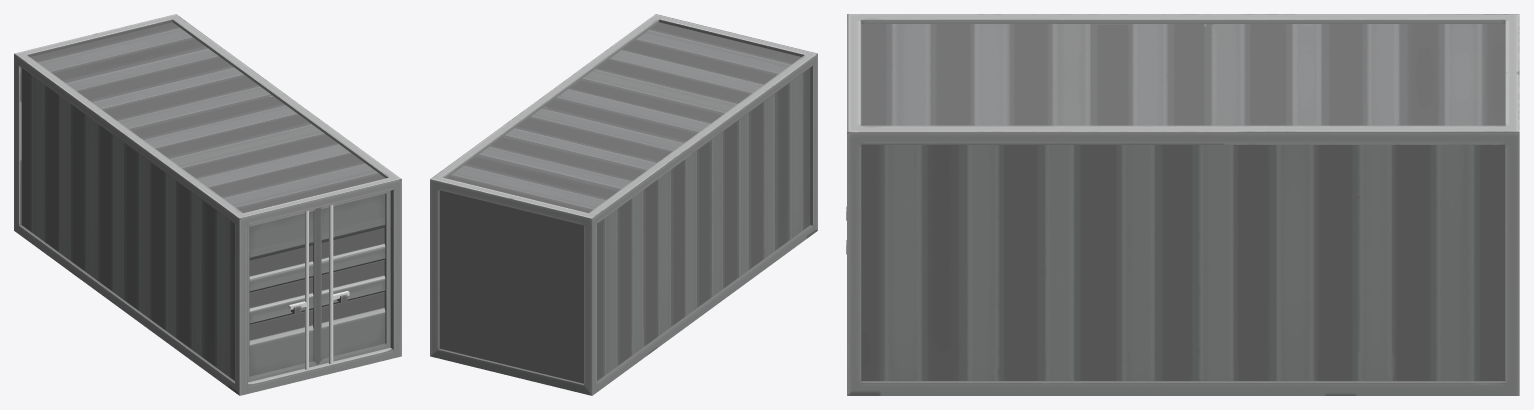
The model's file is konteiner.fbx.
3 views of the same model, side by side, from view 1: azimuth 30°, elevation 25°; view 2: azimuth 150°, elevation 25°; view 3: azimuth 270°, elevation 25° (orthographic). The views are drawn at different scales.
Visible parts, largest first — view 1: Box084, Object071; view 2: Box084; view 3: Box084.
Boxes of the visible parts, x1,y1,x2,y2 form: Box084: (14, 14, 401, 395); Object071: (288, 205, 349, 369); Box084: (430, 14, 817, 395); Box084: (846, 14, 1519, 395).
Size of the model in its own units: 97.91 by 102 by 236.
